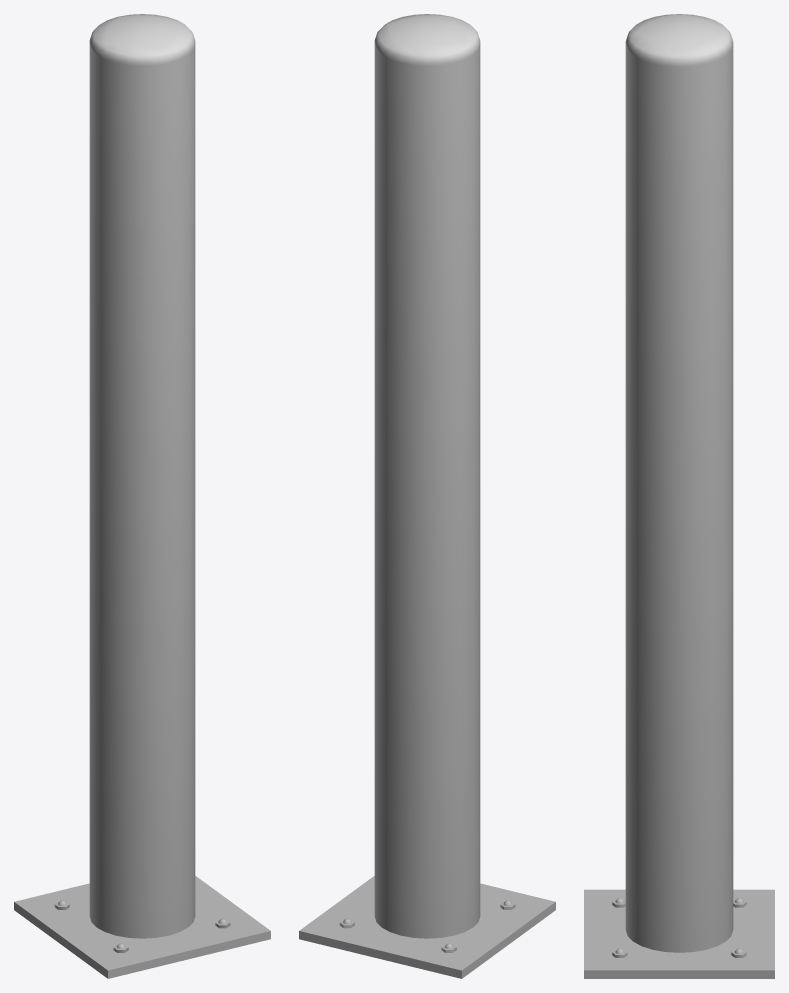
Rendered from traffic_bollard_01_metal_medium.glb.
3 views of the same model, side by side, from view 1: azimuth 30°, elevation 25°; view 2: azimuth 150°, elevation 25°; view 3: azimuth 270°, elevation 25° (orthographic).
Visible parts, largest first — view 1: traffic_bollard_01_metal_medium; view 2: traffic_bollard_01_metal_medium; view 3: traffic_bollard_01_metal_medium.
Part boxes in pixels (bbox=[...]): traffic_bollard_01_metal_medium: bbox=[14, 14, 270, 978]; traffic_bollard_01_metal_medium: bbox=[299, 14, 555, 978]; traffic_bollard_01_metal_medium: bbox=[584, 14, 774, 978].
Bounding box in the file's own units: 0.2032 × 1.07 × 0.2032.
1 material, 1 textured.
